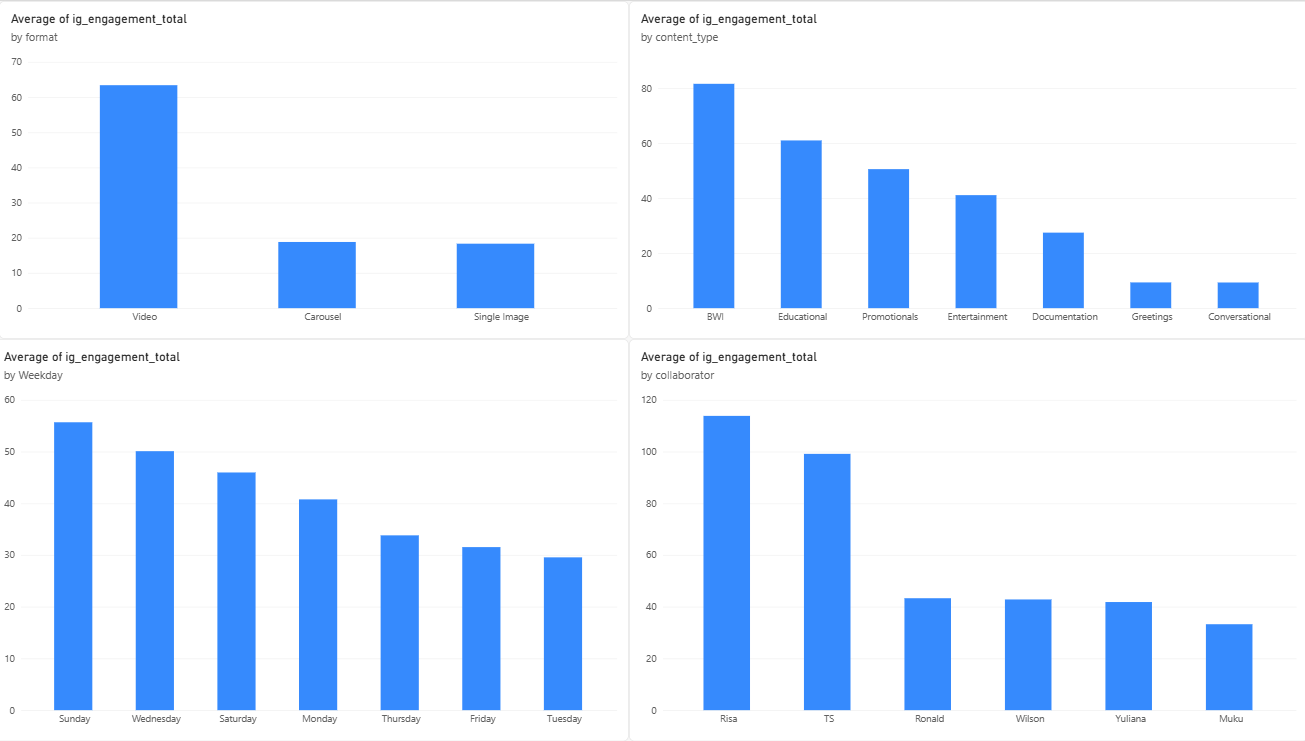

The dashboard page shown, as its layout file describes it:
{"tool":"powerbi","page":{"name":"Overview","canvas":[1920,1080],"ordinal":0},"visuals":[{"type":"columnChart","fields":{"Category":["posts_clean.format"],"Y":["Avg(posts_clean.ig_engagement_total)"]},"box":[10.2,0,919.1,493.1],"z":0},{"type":"columnChart","fields":{"Category":["posts_clean.Weekday"],"Y":["Avg(posts_clean.ig_engagement_total)"]},"box":[0,493.1,929.4,586.5],"z":1},{"type":"columnChart","fields":{"Category":["post_types.content_type"],"Y":["Avg(posts_clean.ig_engagement_total)"]},"box":[929.4,0,990.6,493.1],"z":2},{"type":"columnChart","fields":{"Category":["collab_final.collaborator"],"Y":["Avg(posts_clean.ig_engagement_total)"]},"box":[929.4,493.1,990.6,586.5],"z":3}]}

Visuals, with their boxes in screenshot pixels (x1, y1, x2, y2), scaled from the page's 1920x1080 canvas onto the 1305x741 screenshot:
columnChart - posts_clean.format x Avg(posts_clean.ig_engagement_total): 7, 0, 632, 338
columnChart - posts_clean.Weekday x Avg(posts_clean.ig_engagement_total): 0, 338, 632, 740
columnChart - post_types.content_type x Avg(posts_clean.ig_engagement_total): 632, 0, 1304, 338
columnChart - collab_final.collaborator x Avg(posts_clean.ig_engagement_total): 632, 338, 1304, 740
